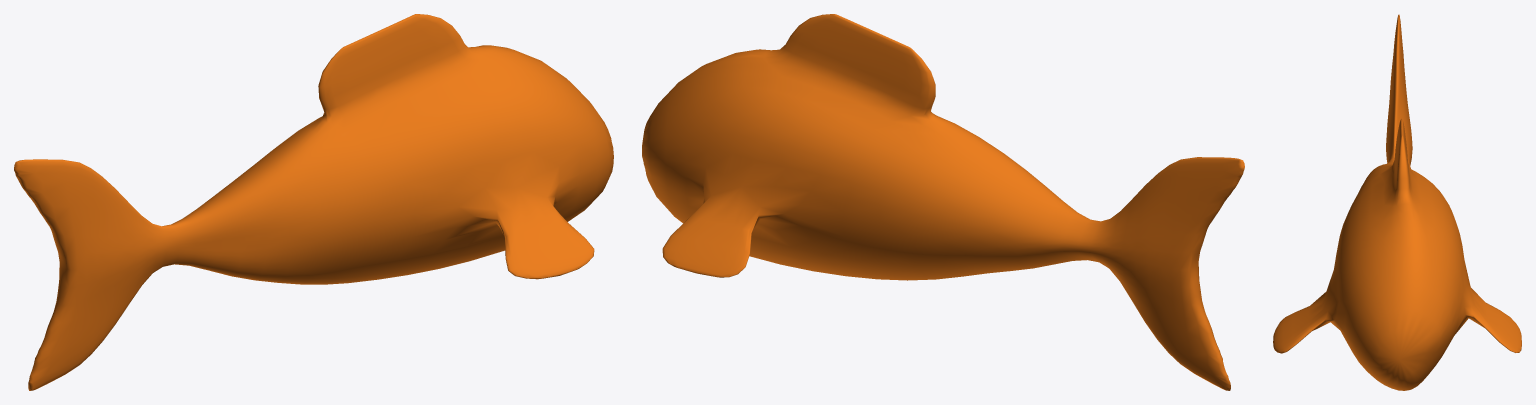
The model's file is fish.fbx.
The picture shows the model from 3 angles, left to right: view 1: azimuth 30°, elevation 25°; view 2: azimuth 150°, elevation 25°; view 3: azimuth 270°, elevation 25°; orthographic projection. The views are drawn at different scales.
Visible parts, largest first — view 1: fish low poly; view 2: fish low poly; view 3: fish low poly.
Part boxes in pixels (x1,y1,x2,y2): fish low poly: (14,14,613,390); fish low poly: (642,14,1244,390); fish low poly: (1273,14,1521,390).
Size of the model in its own units: 0.9209 by 0.4136 by 0.404.
